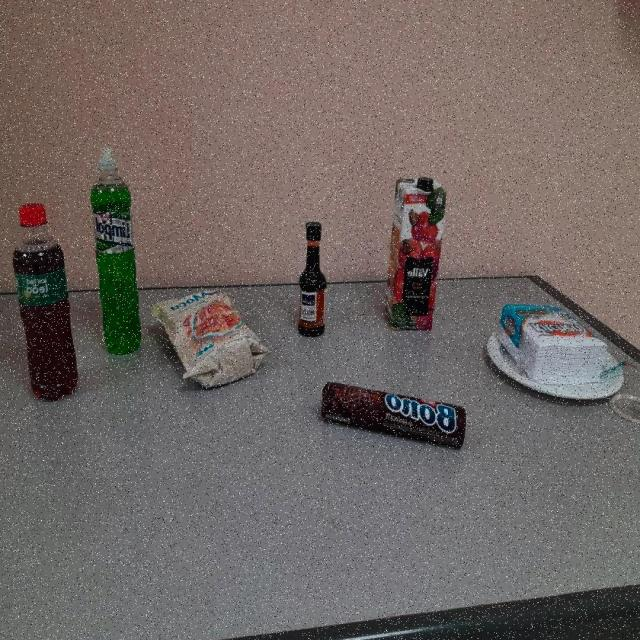Cleaner: (89, 148, 141, 354)
Cookies: (316, 383, 468, 451)
CornFlakes: (151, 288, 268, 393)
EnglishSauce: (298, 223, 328, 336)
IceTea: (11, 203, 78, 401)
